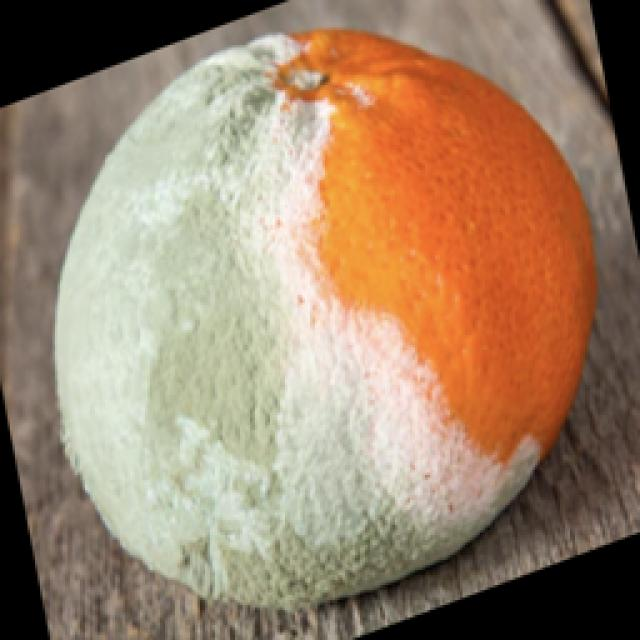Rotten_Orange: (15, 34, 640, 623)
